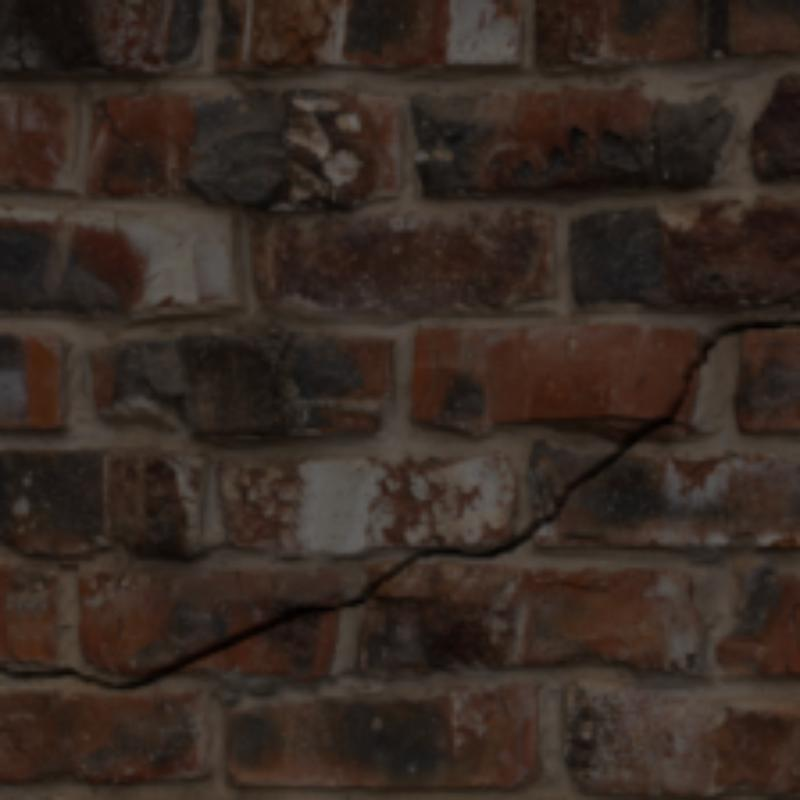pothole: (0, 318, 796, 689)
